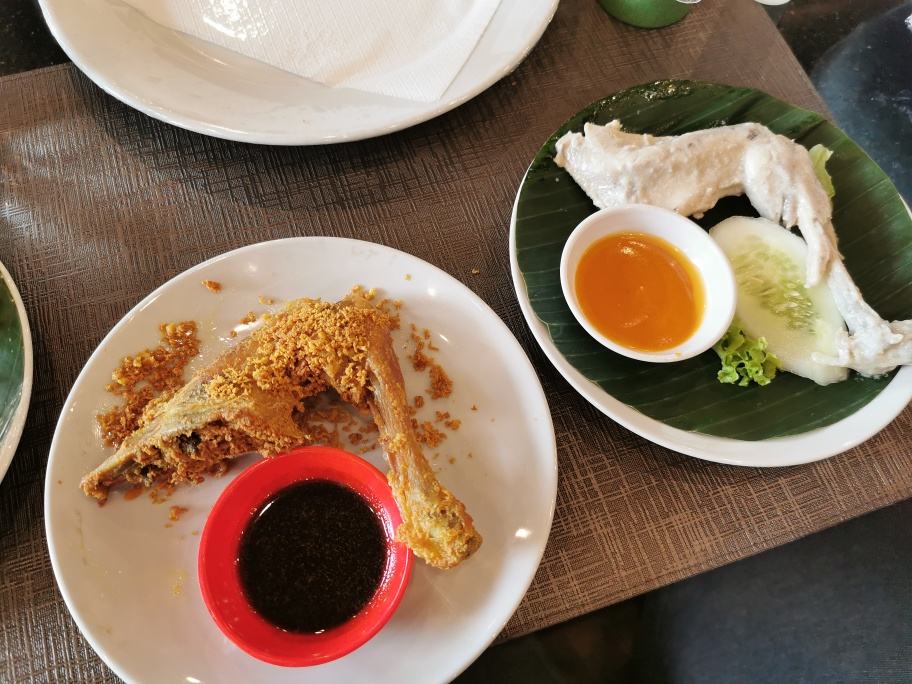ayam goreng: (72, 292, 476, 572)
ayam pop: (554, 98, 912, 368)
extra: (567, 203, 845, 388)
kecap: (196, 437, 418, 656)
